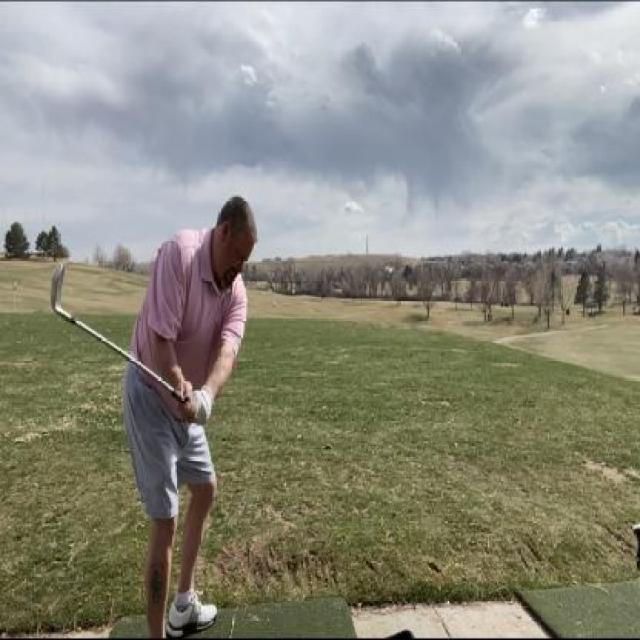club head: (50, 262, 76, 324)
